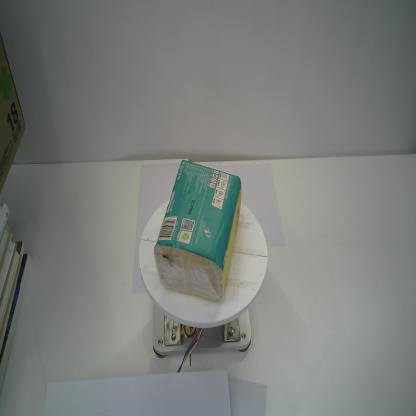Tissue: (154, 158, 242, 304)
